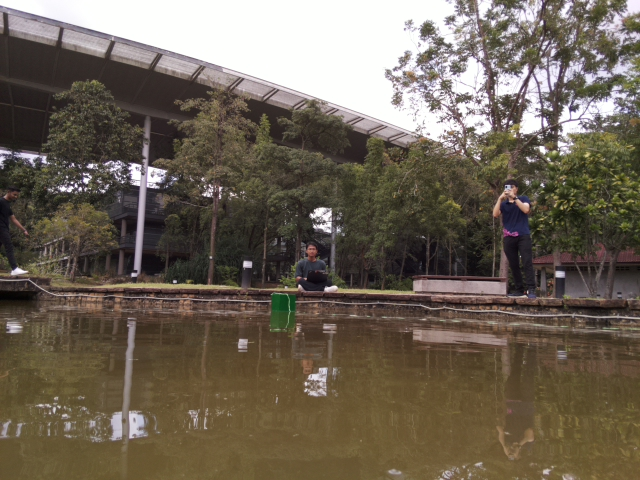obstacle: (271, 292, 296, 314)
